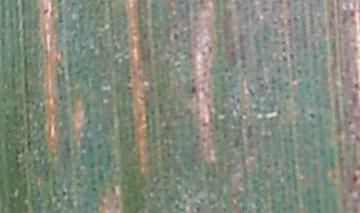tarspot: (352, 172, 359, 184), (189, 85, 198, 94), (172, 22, 181, 30), (171, 32, 180, 39), (42, 8, 50, 15), (309, 112, 317, 119)
